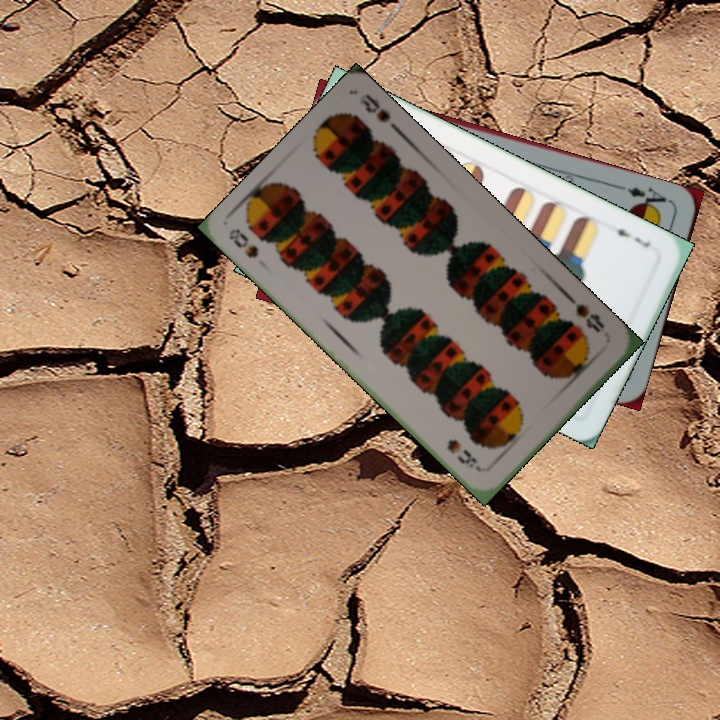E7: (608, 221, 653, 250)
EA: (616, 181, 674, 214)
S8: (566, 293, 608, 335), (225, 224, 261, 261)
